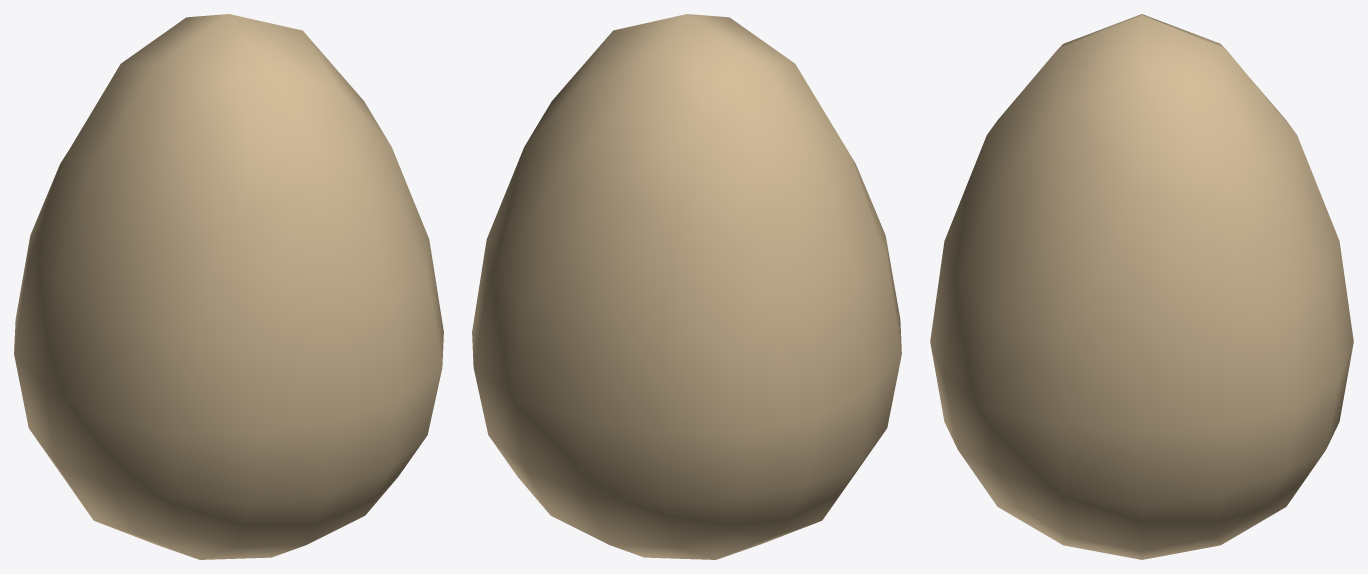
Rendered from jaje.fbx.
The picture shows the model from 3 angles, left to right: view 1: azimuth 30°, elevation 25°; view 2: azimuth 150°, elevation 25°; view 3: azimuth 270°, elevation 25°; orthographic projection.
Parts seen in each view (by area): view 1: jaje1; view 2: jaje1; view 3: jaje1.
Part boxes in pixels (bbox=[...]): jaje1: bbox=[14, 14, 443, 559]; jaje1: bbox=[472, 14, 901, 559]; jaje1: bbox=[930, 14, 1353, 559].
Size of the model in its own units: 0.0559 by 0.0759 by 0.0559.
